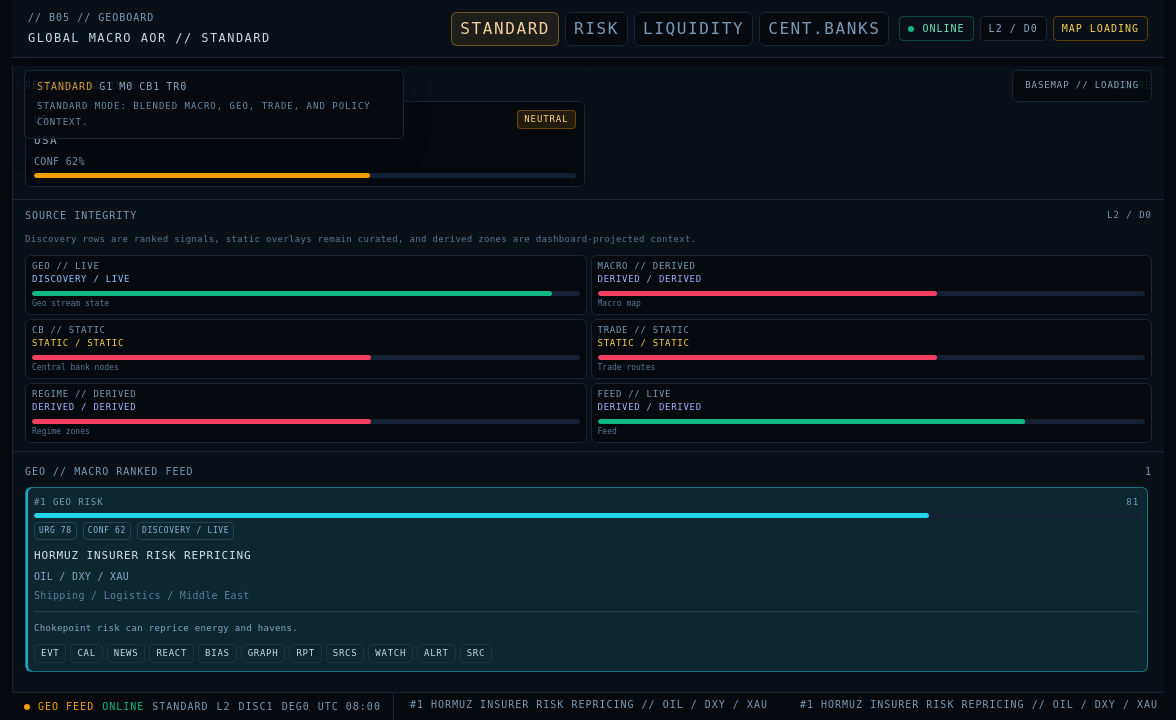
Test: GeoboardShell › switches modes and updates data hook mode argument
Click the button "RISK": {"x": 597, "y": 28} [565, 12, 628, 46]
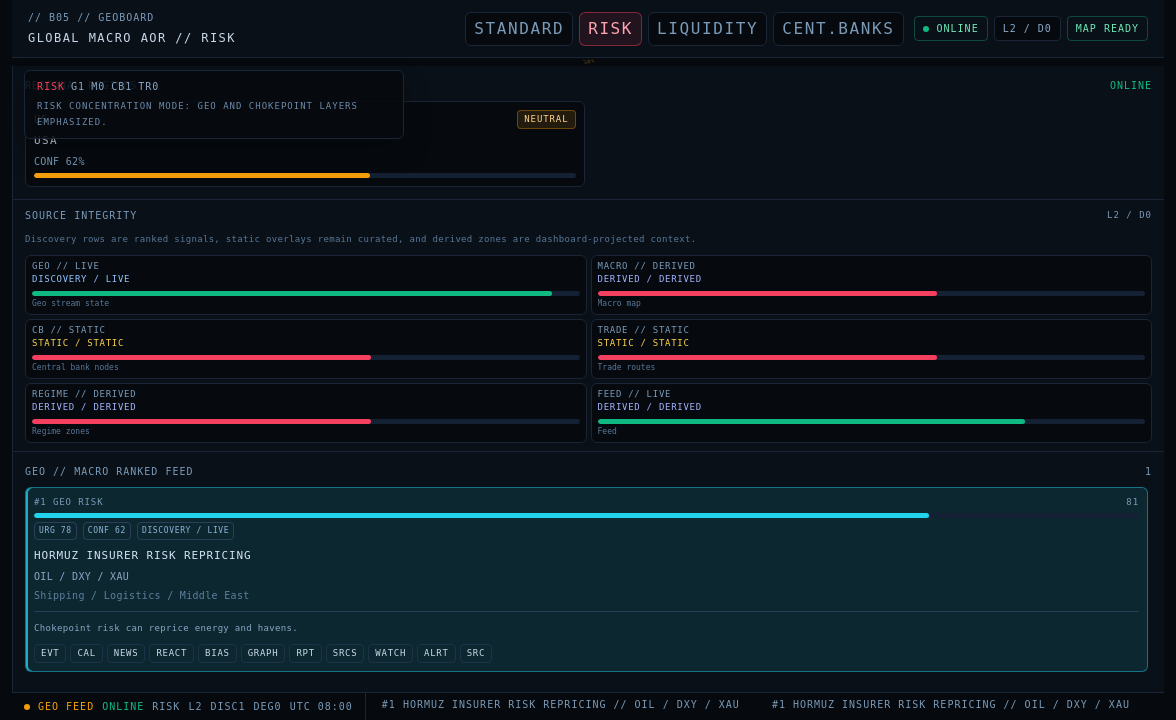
Now the text "GLOBAL MACRO AOR // RISK" is shown, box [28, 29, 236, 47]
